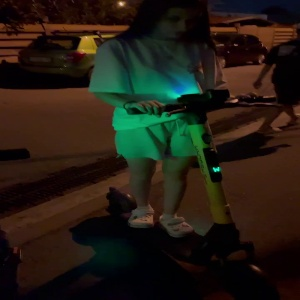human on a scooter: (89, 1, 282, 298)
